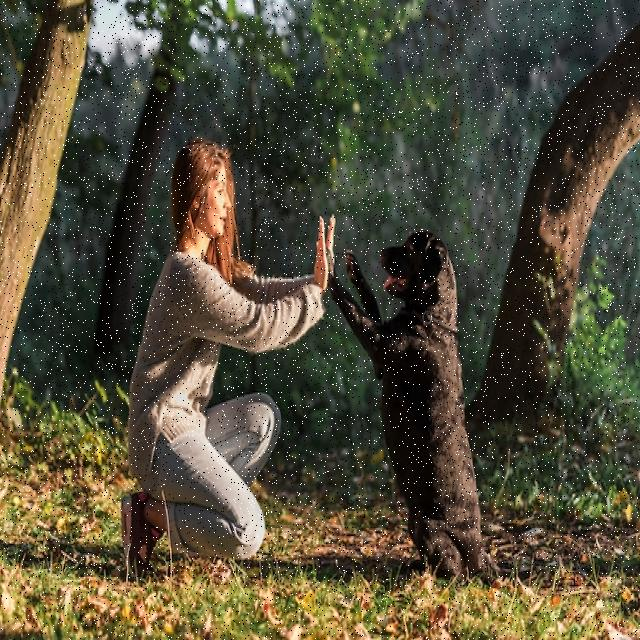Dog: (326, 228, 528, 578)
Person: (119, 137, 335, 575)
